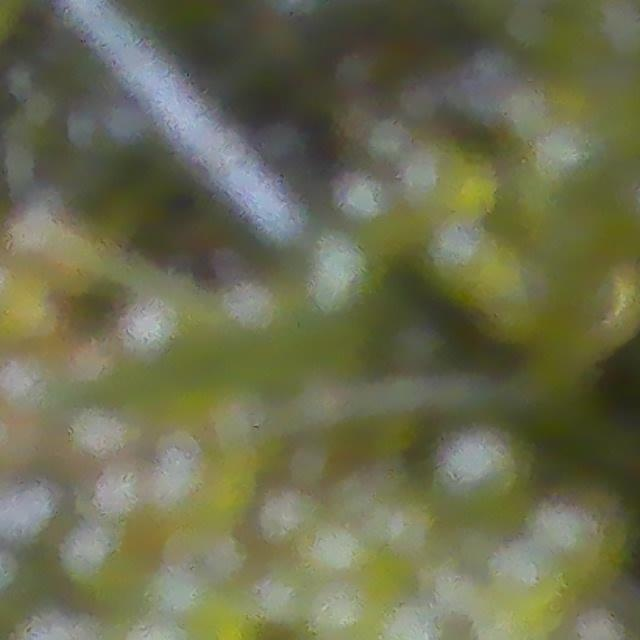SeaGrape: (428, 419, 533, 523), (0, 193, 104, 294), (402, 136, 492, 233), (307, 236, 385, 318)
